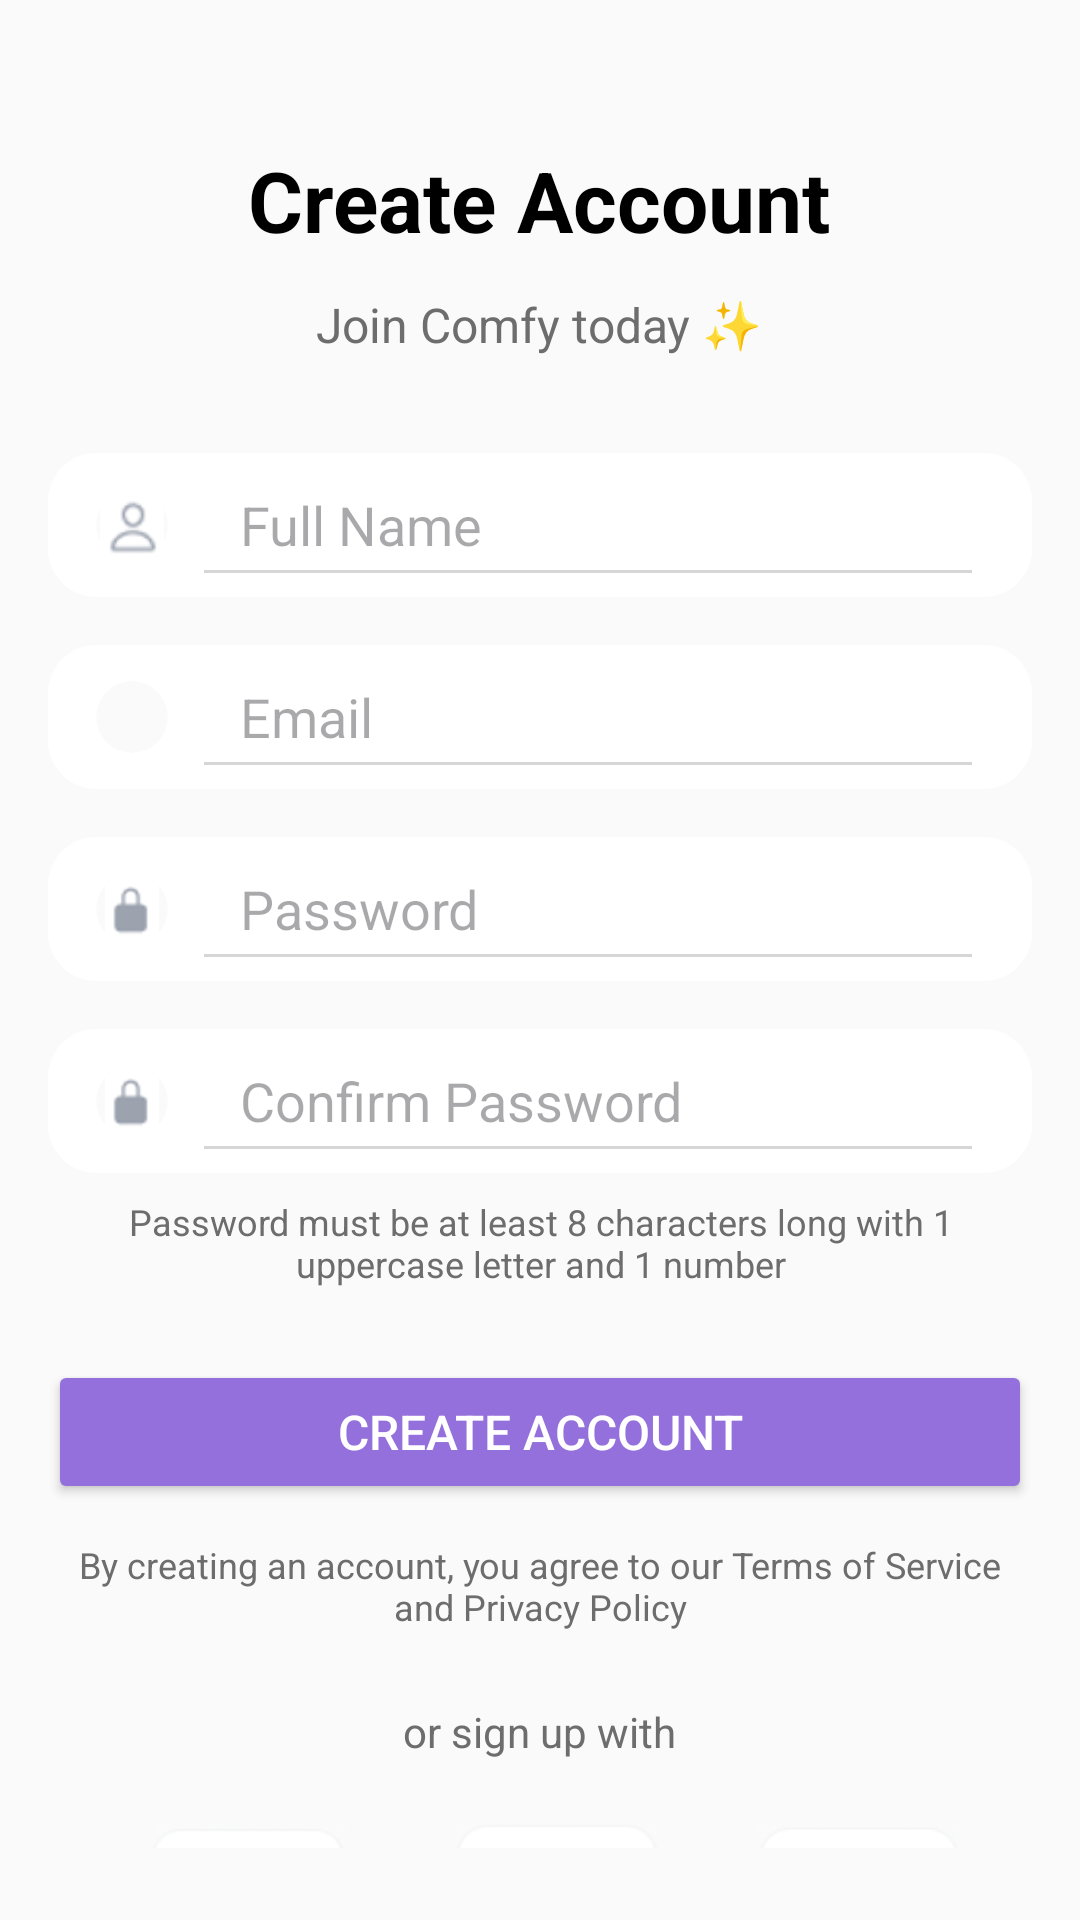

Point at icon controls on the screen. Image size 1080×1920, points as [x,y].
user: [133,527]
